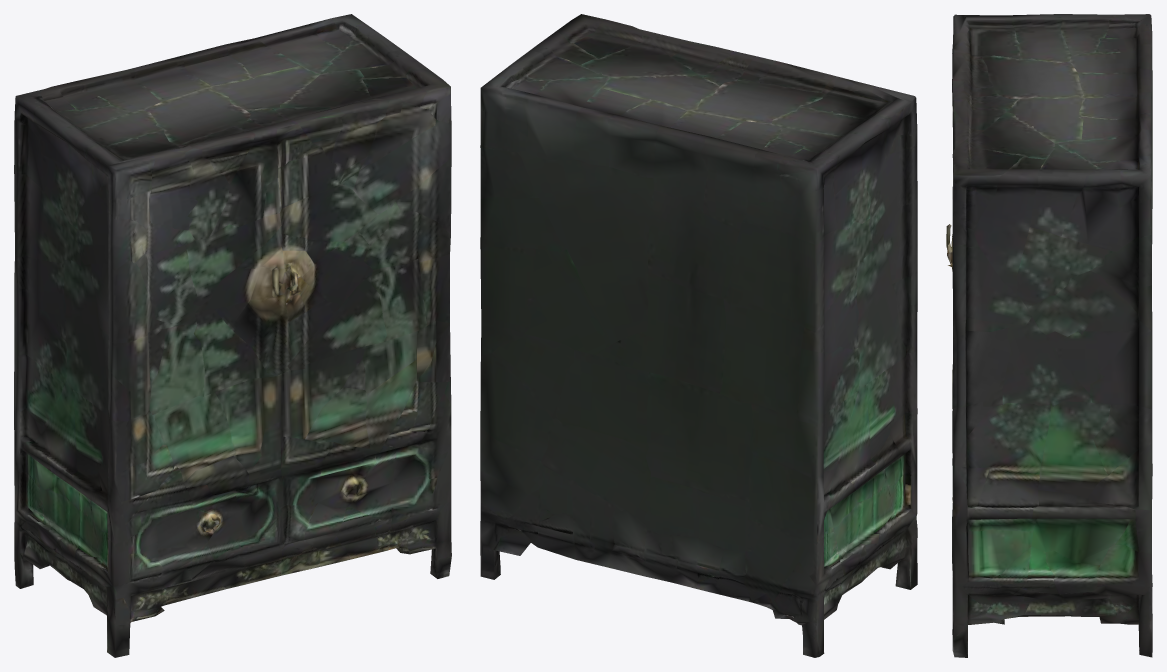
The model's file is pr_cabinet.glb.
3 views of the same model, side by side, from view 1: azimuth 30°, elevation 25°; view 2: azimuth 150°, elevation 25°; view 3: azimuth 270°, elevation 25° (orthographic).
Bounding box in the file's own units: 1.45 × 2 × 0.7749.
1 material, 1 textured.
